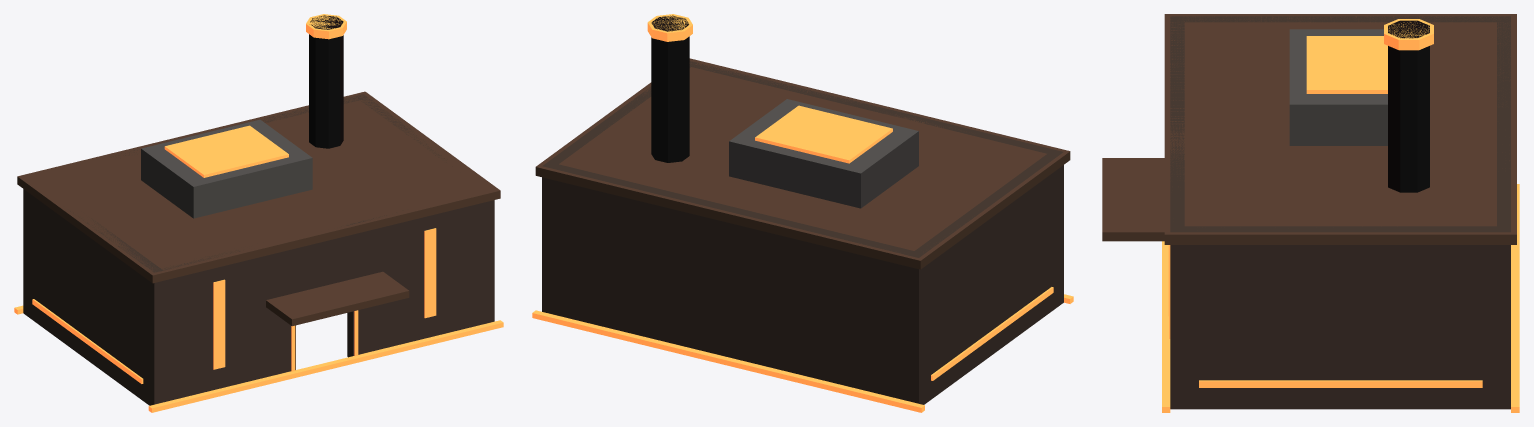
The model's file is shaddai_dist_volcano_b1_v01.glb.
The picture shows the model from 3 angles, left to right: view 1: azimuth 30°, elevation 25°; view 2: azimuth 150°, elevation 25°; view 3: azimuth 270°, elevation 25°; orthographic projection. The views are drawn at different scales.
Parts seen in each view (by area): view 1: shaddai_dist_volcano_b1; view 2: shaddai_dist_volcano_b1; view 3: shaddai_dist_volcano_b1.
Boxes of the visible parts, x1,y1,x2,y2 form: shaddai_dist_volcano_b1: (14,14,503,412); shaddai_dist_volcano_b1: (532,14,1073,412); shaddai_dist_volcano_b1: (1102,14,1519,412).
Bounding box in the file's own units: 18.6 × 12.88 × 14.7.
